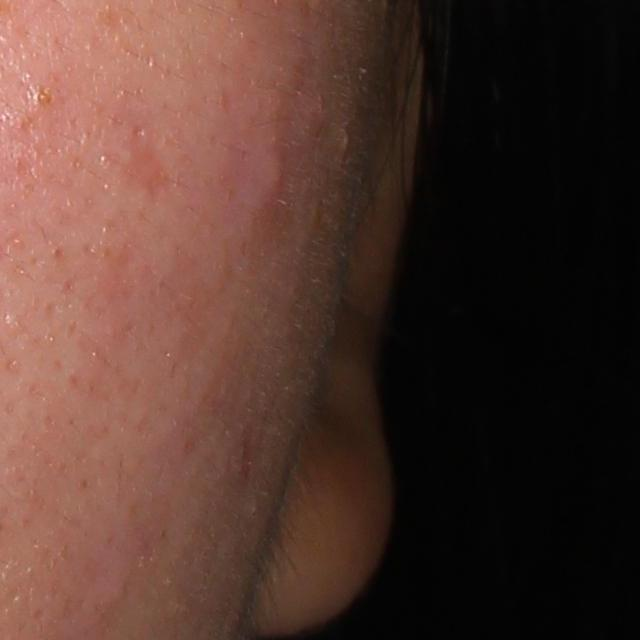atrophic_scar: (117, 99, 168, 197)
comedo: (28, 82, 61, 110)
papule: (255, 152, 293, 208)
